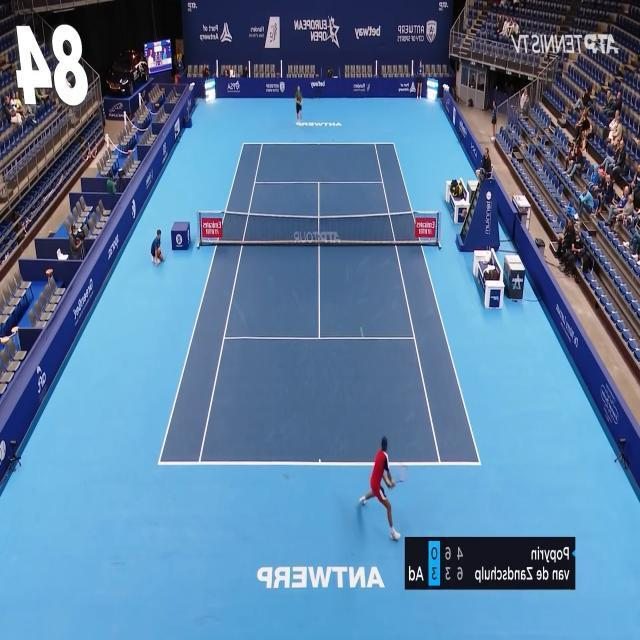court: (156, 142, 482, 467)
net: (196, 209, 441, 249)
player: (357, 434, 410, 542)
